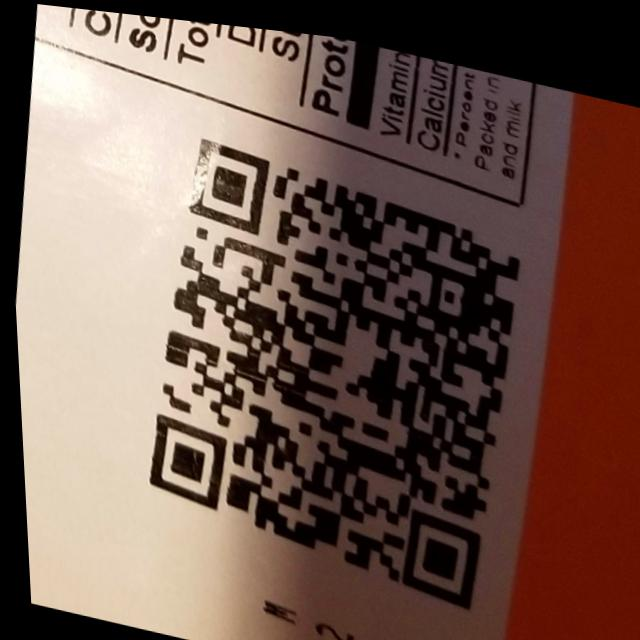QR_CODE: (107, 112, 554, 622)
